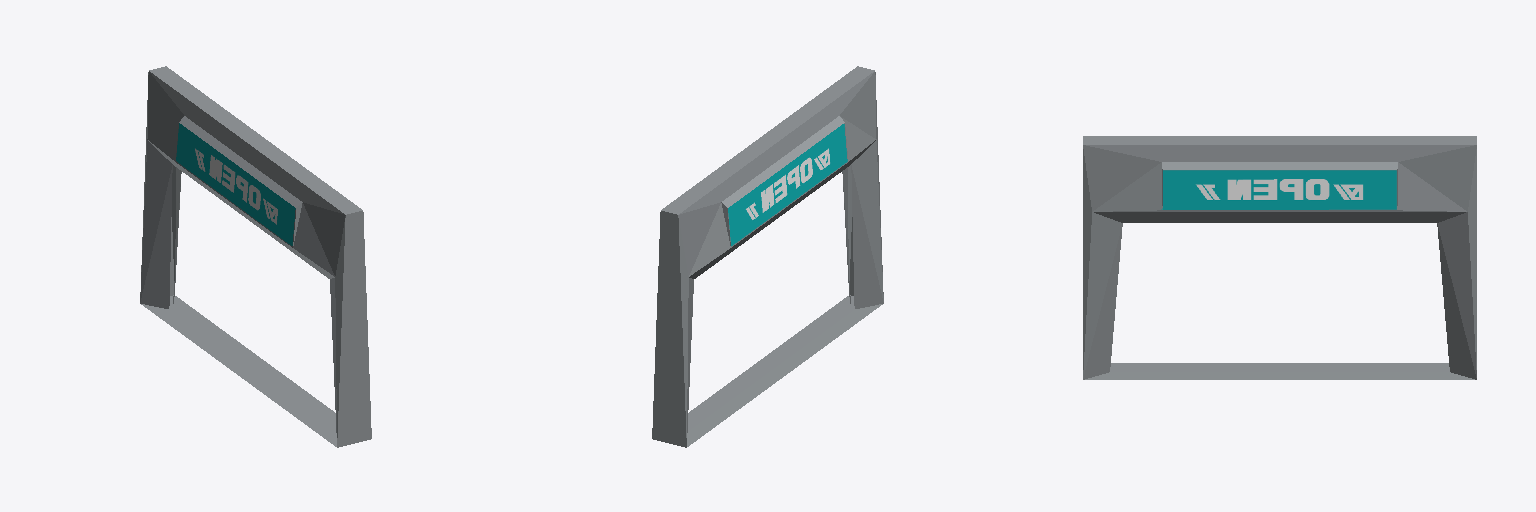
3 renders of one model, left to right at view 1: azimuth 30°, elevation 25°; view 2: azimuth 150°, elevation 25°; view 3: azimuth 270°, elevation 25°, orthographic.
Visible parts, largest first — view 1: pCube1; view 2: pCube1; view 3: pCube1.
Boxes of the visible parts, x1,y1,x2,y2 form: pCube1: [140, 66, 371, 447]; pCube1: [652, 66, 883, 447]; pCube1: [1083, 136, 1476, 379].
Bounding box in the file's own units: 0.708 × 3.6 × 5.57.
Materials: 1 (1 with a texture image).